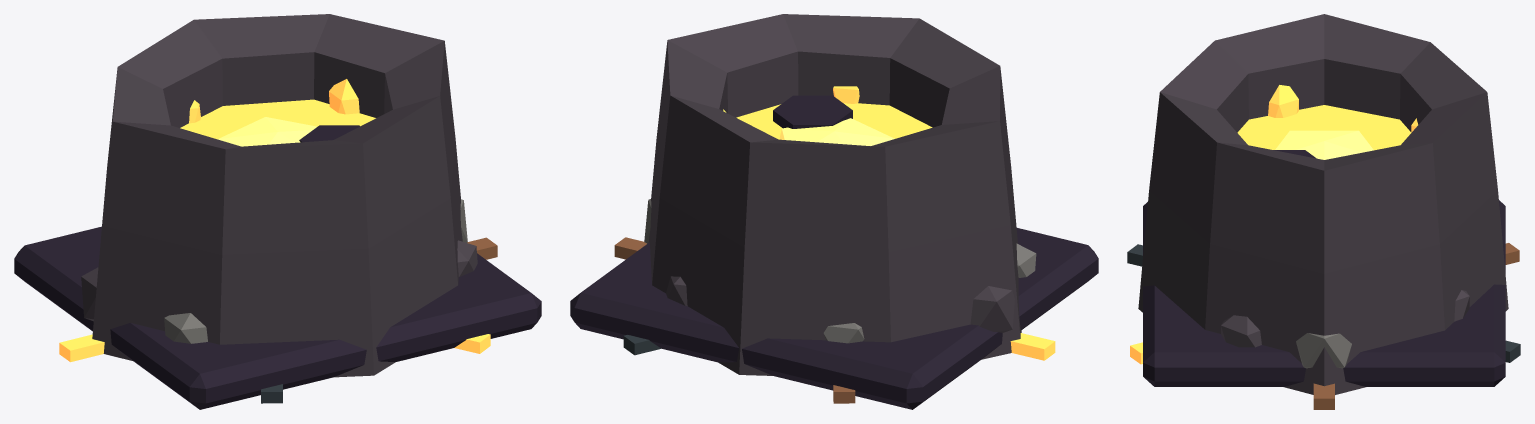
The model's file is rift_magma_vent.glb.
3 views of the same model, side by side, from view 1: azimuth 30°, elevation 25°; view 2: azimuth 150°, elevation 25°; view 3: azimuth 270°, elevation 25° (orthographic). The views are drawn at different scales.
Parts seen in each view (by area): view 1: rift_magma_vent; view 2: rift_magma_vent; view 3: rift_magma_vent.
Part boxes in pixels (x1=…): rift_magma_vent: x1=14, y1=14, x2=541, y2=409; rift_magma_vent: x1=570, y1=14, x2=1098, y2=409; rift_magma_vent: x1=1127, y1=14, x2=1520, y2=409.
Bounding box in the file's own units: 1.24 × 0.62 × 1.02.
